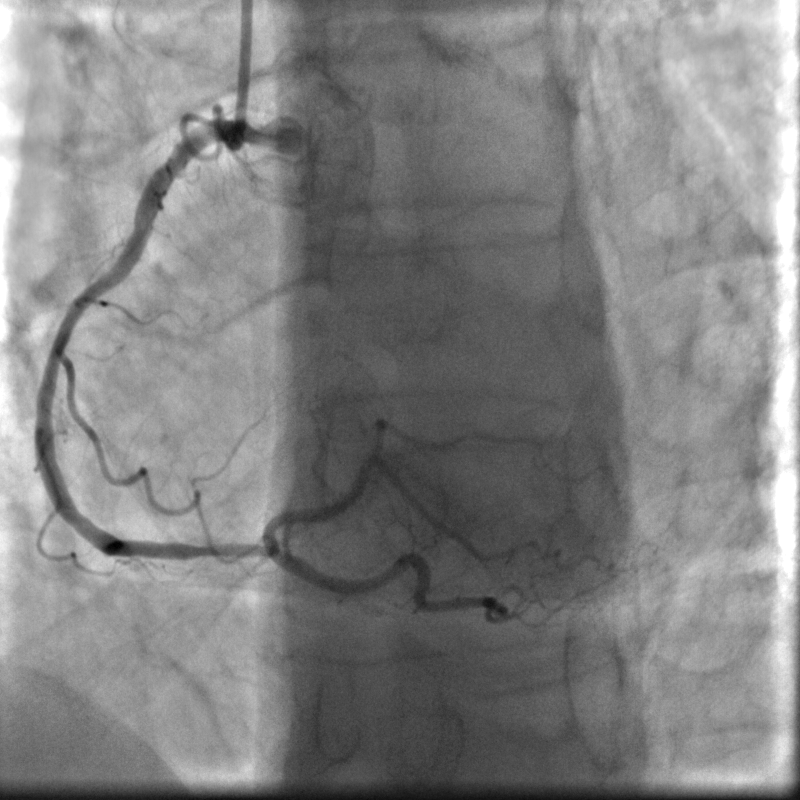Stenosis: (182, 532, 266, 576)
